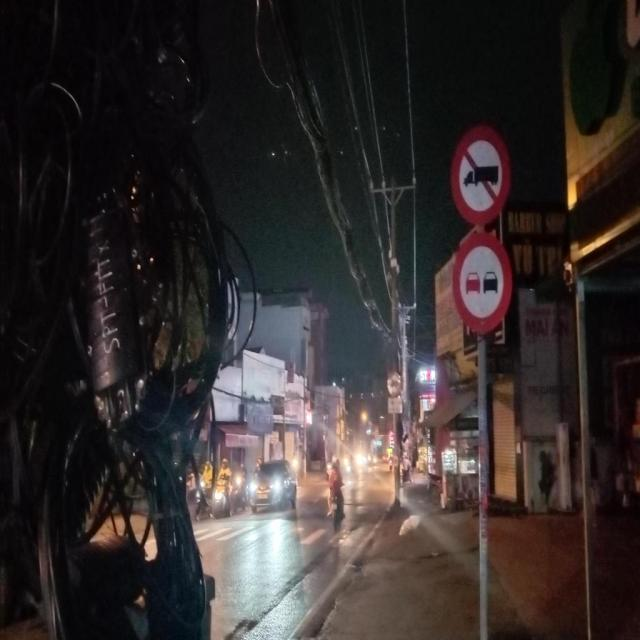cam_o_to_tai: (388, 372, 402, 396)
cam_o_to_tai_trong_luong_qua_10t: (450, 125, 510, 226)
cam_vuot: (452, 233, 512, 332)
khac: (388, 398, 403, 413)
